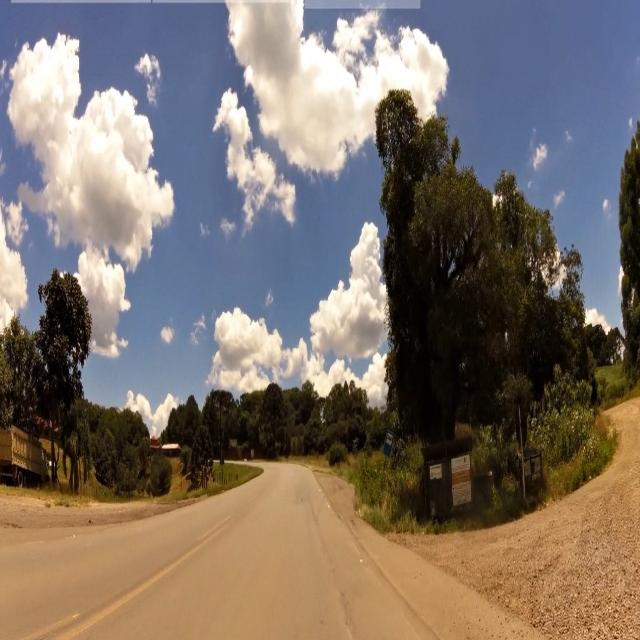S-14: (384, 428, 393, 460)
